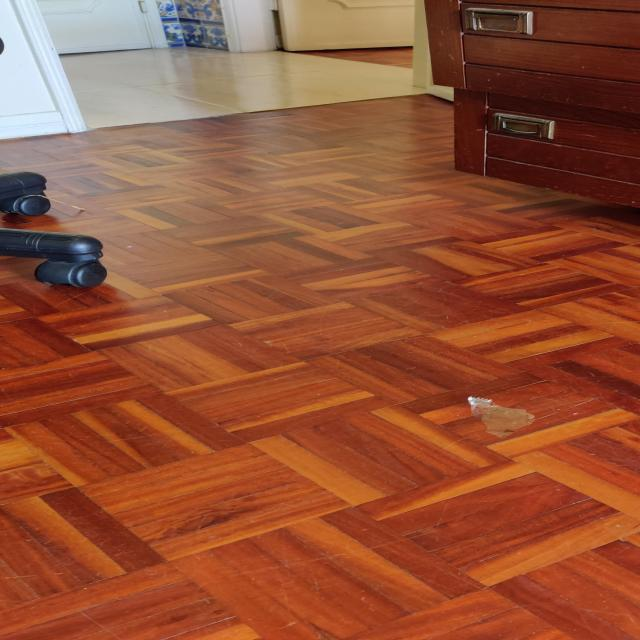litter: (460, 393, 544, 439)
